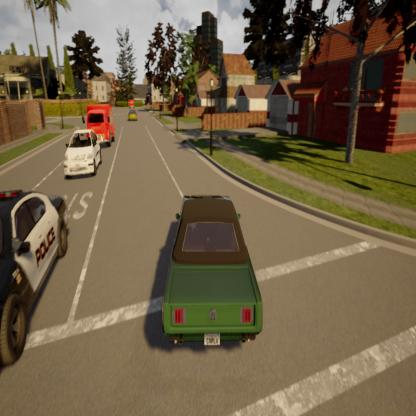Cars: (149, 185, 266, 367), (0, 185, 76, 381), (63, 128, 104, 180), (82, 100, 117, 150), (127, 108, 139, 123)
